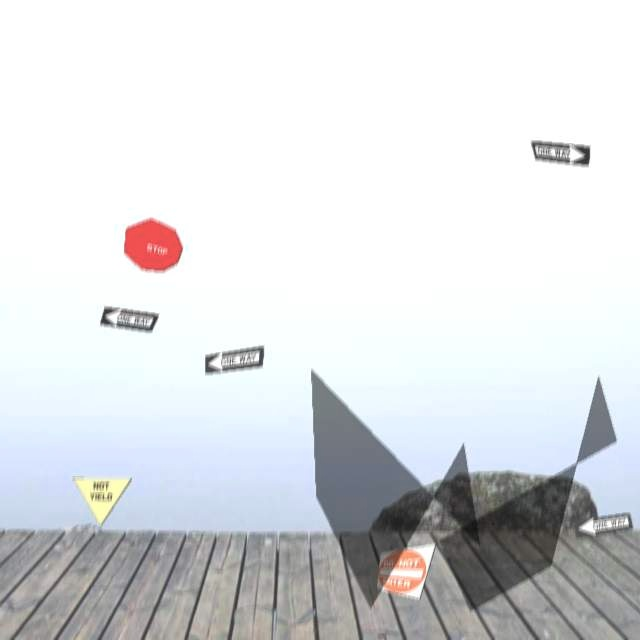DO_NOT_ENTER: (376, 543, 436, 599)
NOT_YIELD: (72, 477, 132, 526)
ONE_WAY_ left: (204, 345, 264, 373), (573, 512, 633, 538), (99, 306, 159, 331)
ONE_WAY_ right: (530, 140, 590, 165)
STOP: (123, 217, 183, 271)
